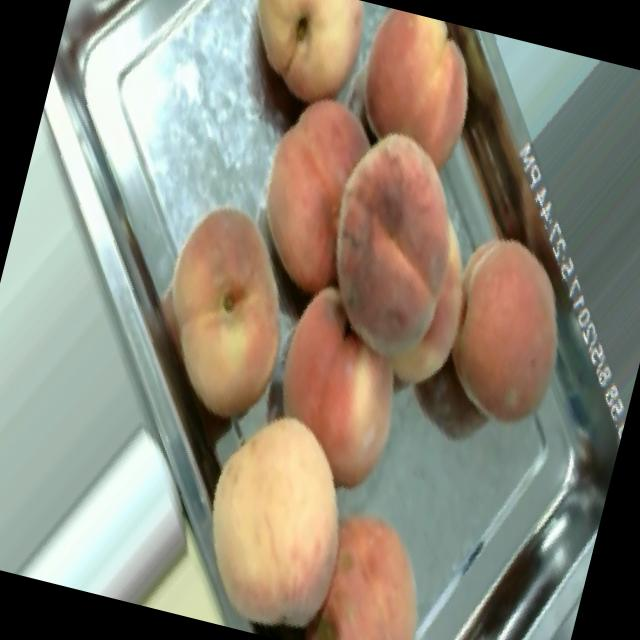Fruit: (266, 94, 525, 420), (145, 368, 381, 640), (103, 173, 330, 453), (240, 255, 456, 520), (402, 202, 616, 460), (218, 68, 405, 326), (305, 480, 480, 640), (210, 0, 383, 125)
